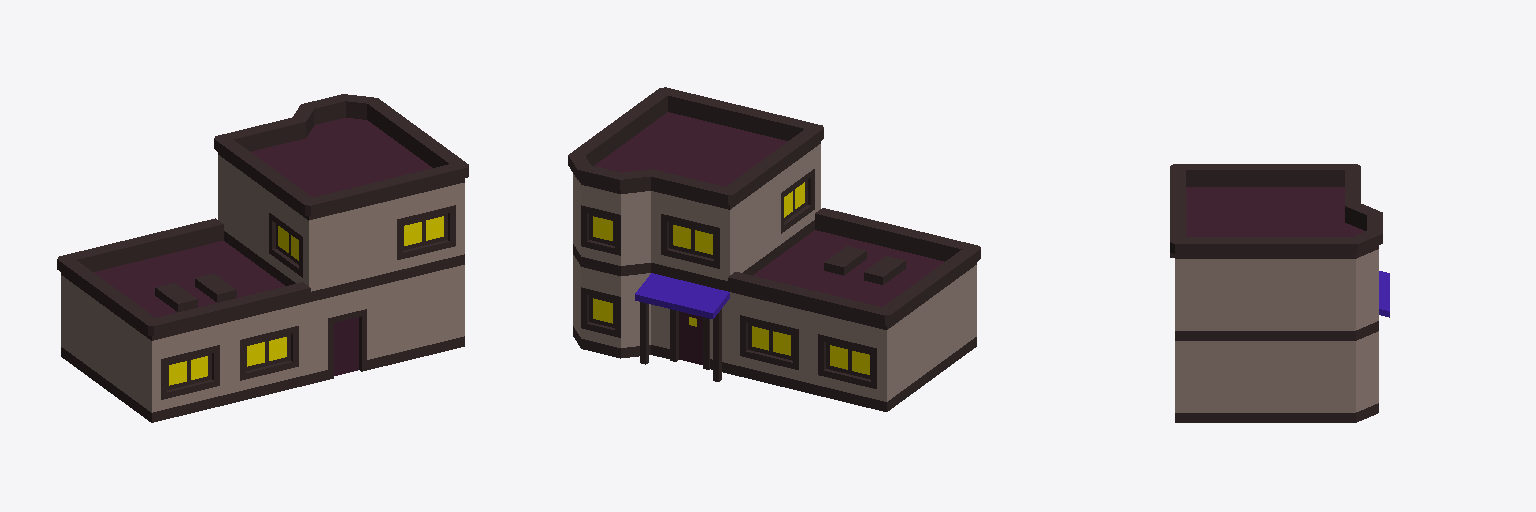
The model's file is small_buildingE_CyPk.obj.
The picture shows the model from 3 angles: view 1: azimuth 30°, elevation 25°; view 2: azimuth 150°, elevation 25°; view 3: azimuth 270°, elevation 25°; orthographic projection.
Parts seen in each view (by area): view 1: small_buildingE; view 2: small_buildingE; view 3: small_buildingE.
Boxes of the visible parts, x1,y1,x2,y2 form: small_buildingE: [57, 94, 468, 422]; small_buildingE: [568, 87, 980, 411]; small_buildingE: [1170, 164, 1389, 422].
Size of the model in its own units: 1.64 by 0.88 by 0.9679.